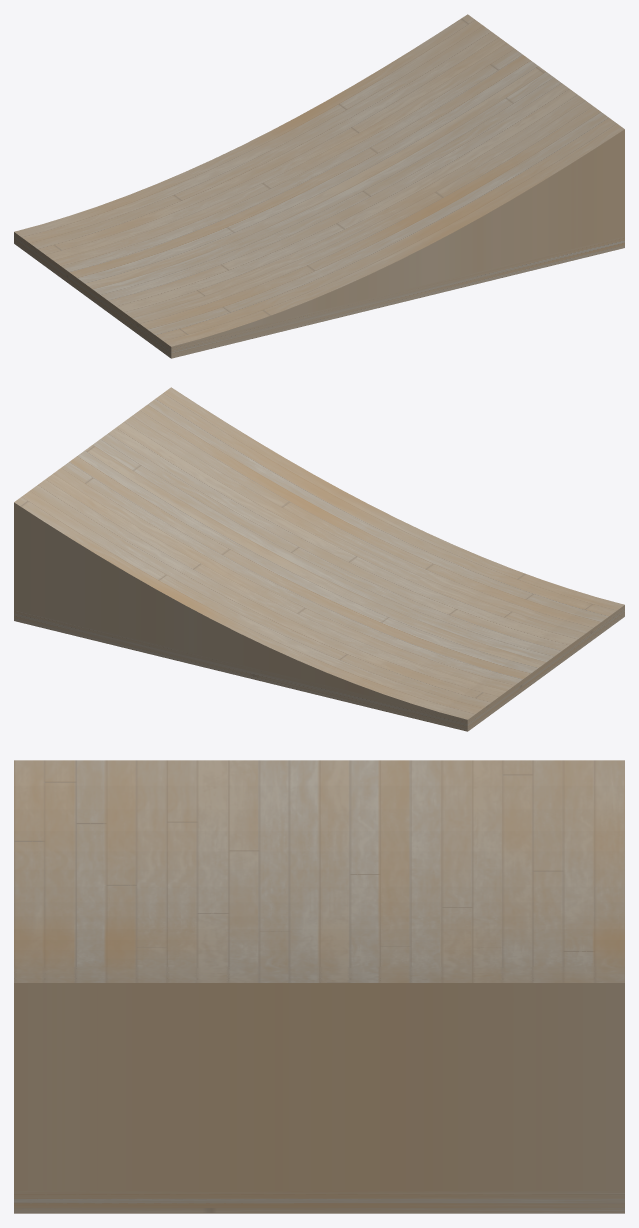
The model's file is @Tag.Ground.2.obj.
3 views of the same model, one above another, from view 1: azimuth 30°, elevation 25°; view 2: azimuth 150°, elevation 25°; view 3: azimuth 270°, elevation 25° (orthographic). The views are drawn at different scales.
Parts seen in each view (by area): view 1: GroundSlopeWide; view 2: GroundSlopeWide; view 3: GroundSlopeWide.
Part boxes in pixels (box(x1,y1,x2,y2)): GroundSlopeWide: box(14, 14, 624, 358); GroundSlopeWide: box(14, 387, 624, 731); GroundSlopeWide: box(14, 760, 624, 1213).
Bounding box in the file's own units: 80 × 20 × 48.
1 material, 1 textured.
